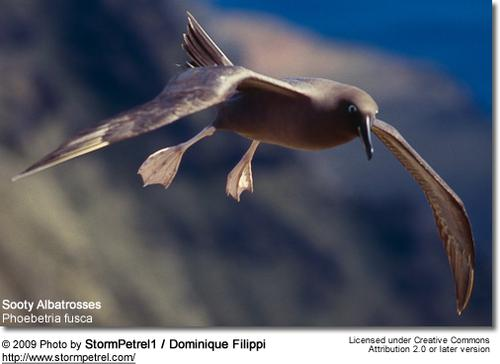003.Sooty_Albatross: (12, 10, 474, 316)
